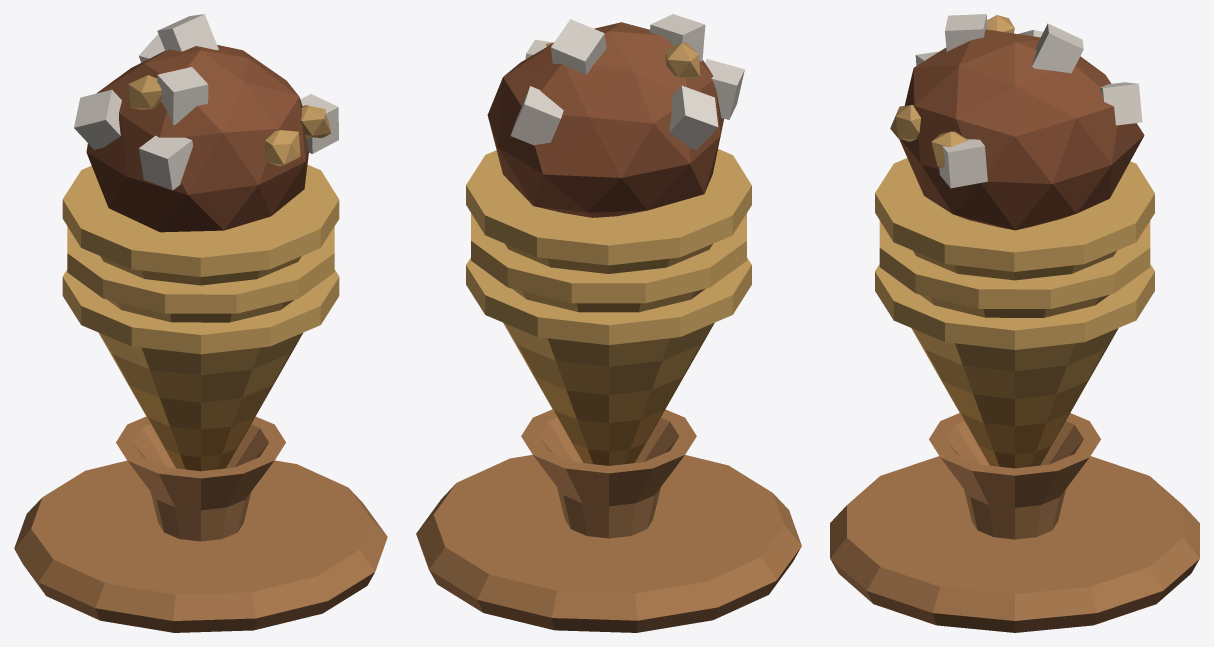
The model's file is habitat_prop_rocky_road.fbx.
3 views of the same model, side by side, from view 1: azimuth 30°, elevation 25°; view 2: azimuth 150°, elevation 25°; view 3: azimuth 270°, elevation 25° (orthographic). The views are drawn at different scales.
Parts seen in each view (by area): view 1: habitat_prop_rocky_road; view 2: habitat_prop_rocky_road; view 3: habitat_prop_rocky_road.
Boxes of the visible parts, box(x1,y1,x2,y2) form: habitat_prop_rocky_road: box(14, 14, 387, 632); habitat_prop_rocky_road: box(416, 14, 801, 632); habitat_prop_rocky_road: box(830, 14, 1199, 632).
Bounding box in the file's own units: 0.88 × 1.37 × 0.8579.
